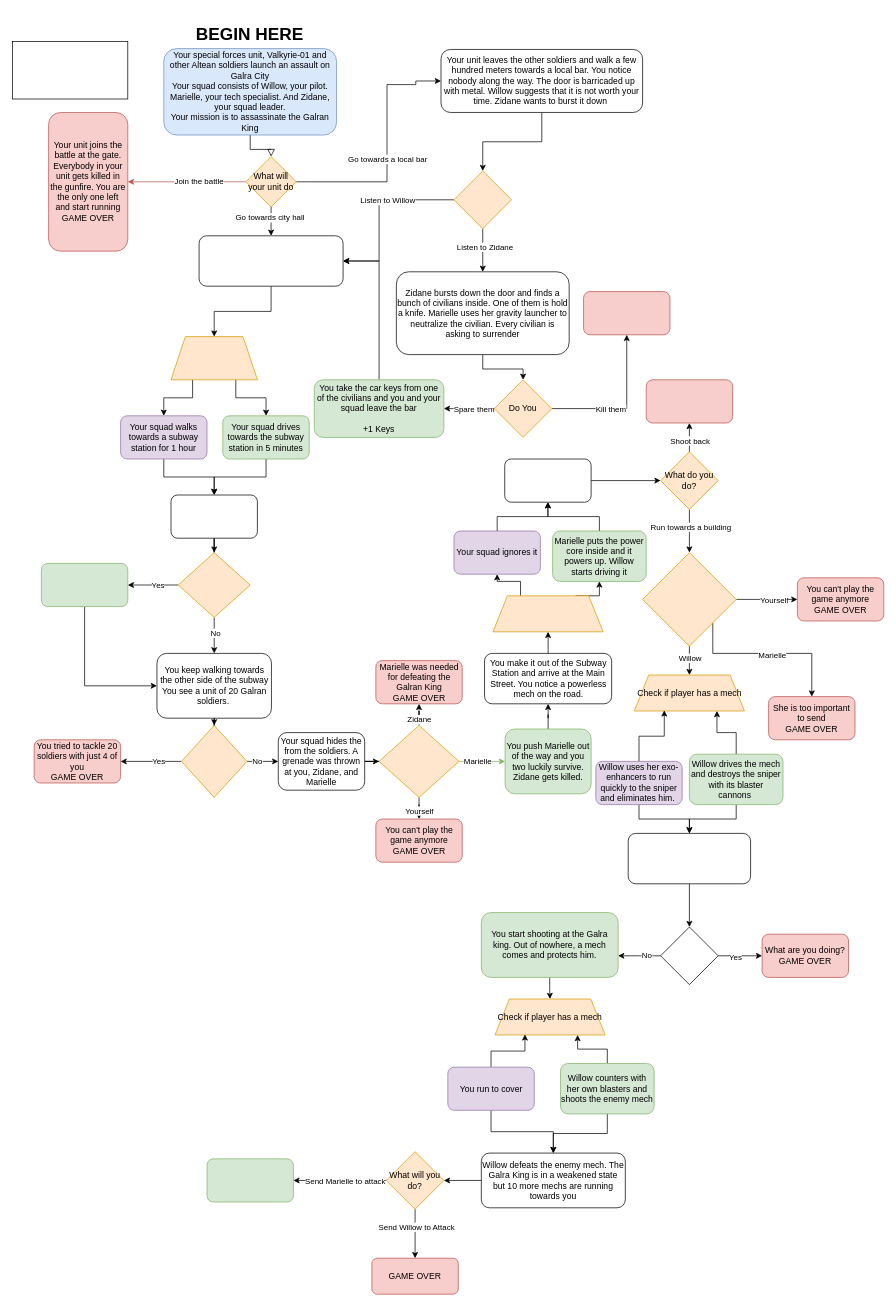
The diagram is 896 pixels wide and 1307 high, and some of its shapes have lost their labels. The shapes that lost their labels are listed below. From the top down, each one's box as (x1, y1, x2, y2) in pixels, then its label:
(453, 170, 512, 229): What will you choose to do?
(198, 235, 343, 286): Your unit leaves the other soldiers and go towards the city hall
(583, 291, 670, 335): GAME OVER That was not apart of the mission!
(170, 336, 257, 380): Check if player has car
(645, 379, 733, 423): GAME OVER Don't try to contest a sniper with a pistol
(504, 458, 591, 502): A sniper down the street starts shooting you specifically.
(170, 494, 257, 538): You notice a door glowing inside the station
(41, 563, 128, 607): You find a power core for a mech. Marielle says that you could use it later
(177, 552, 250, 617): Do you open it
(642, 552, 736, 646): Who do you send to deal with the sniper?
(492, 595, 603, 632): Check if player has a power core
(181, 725, 247, 797): Do you attack them?
(378, 725, 459, 797): Who do you save?
(627, 833, 751, 884): You arrive at Malak Square where the Galra King is. He asks you to surrender
(660, 926, 718, 985): Will you?
(206, 1158, 293, 1202): Marielle runs towards the Galra
